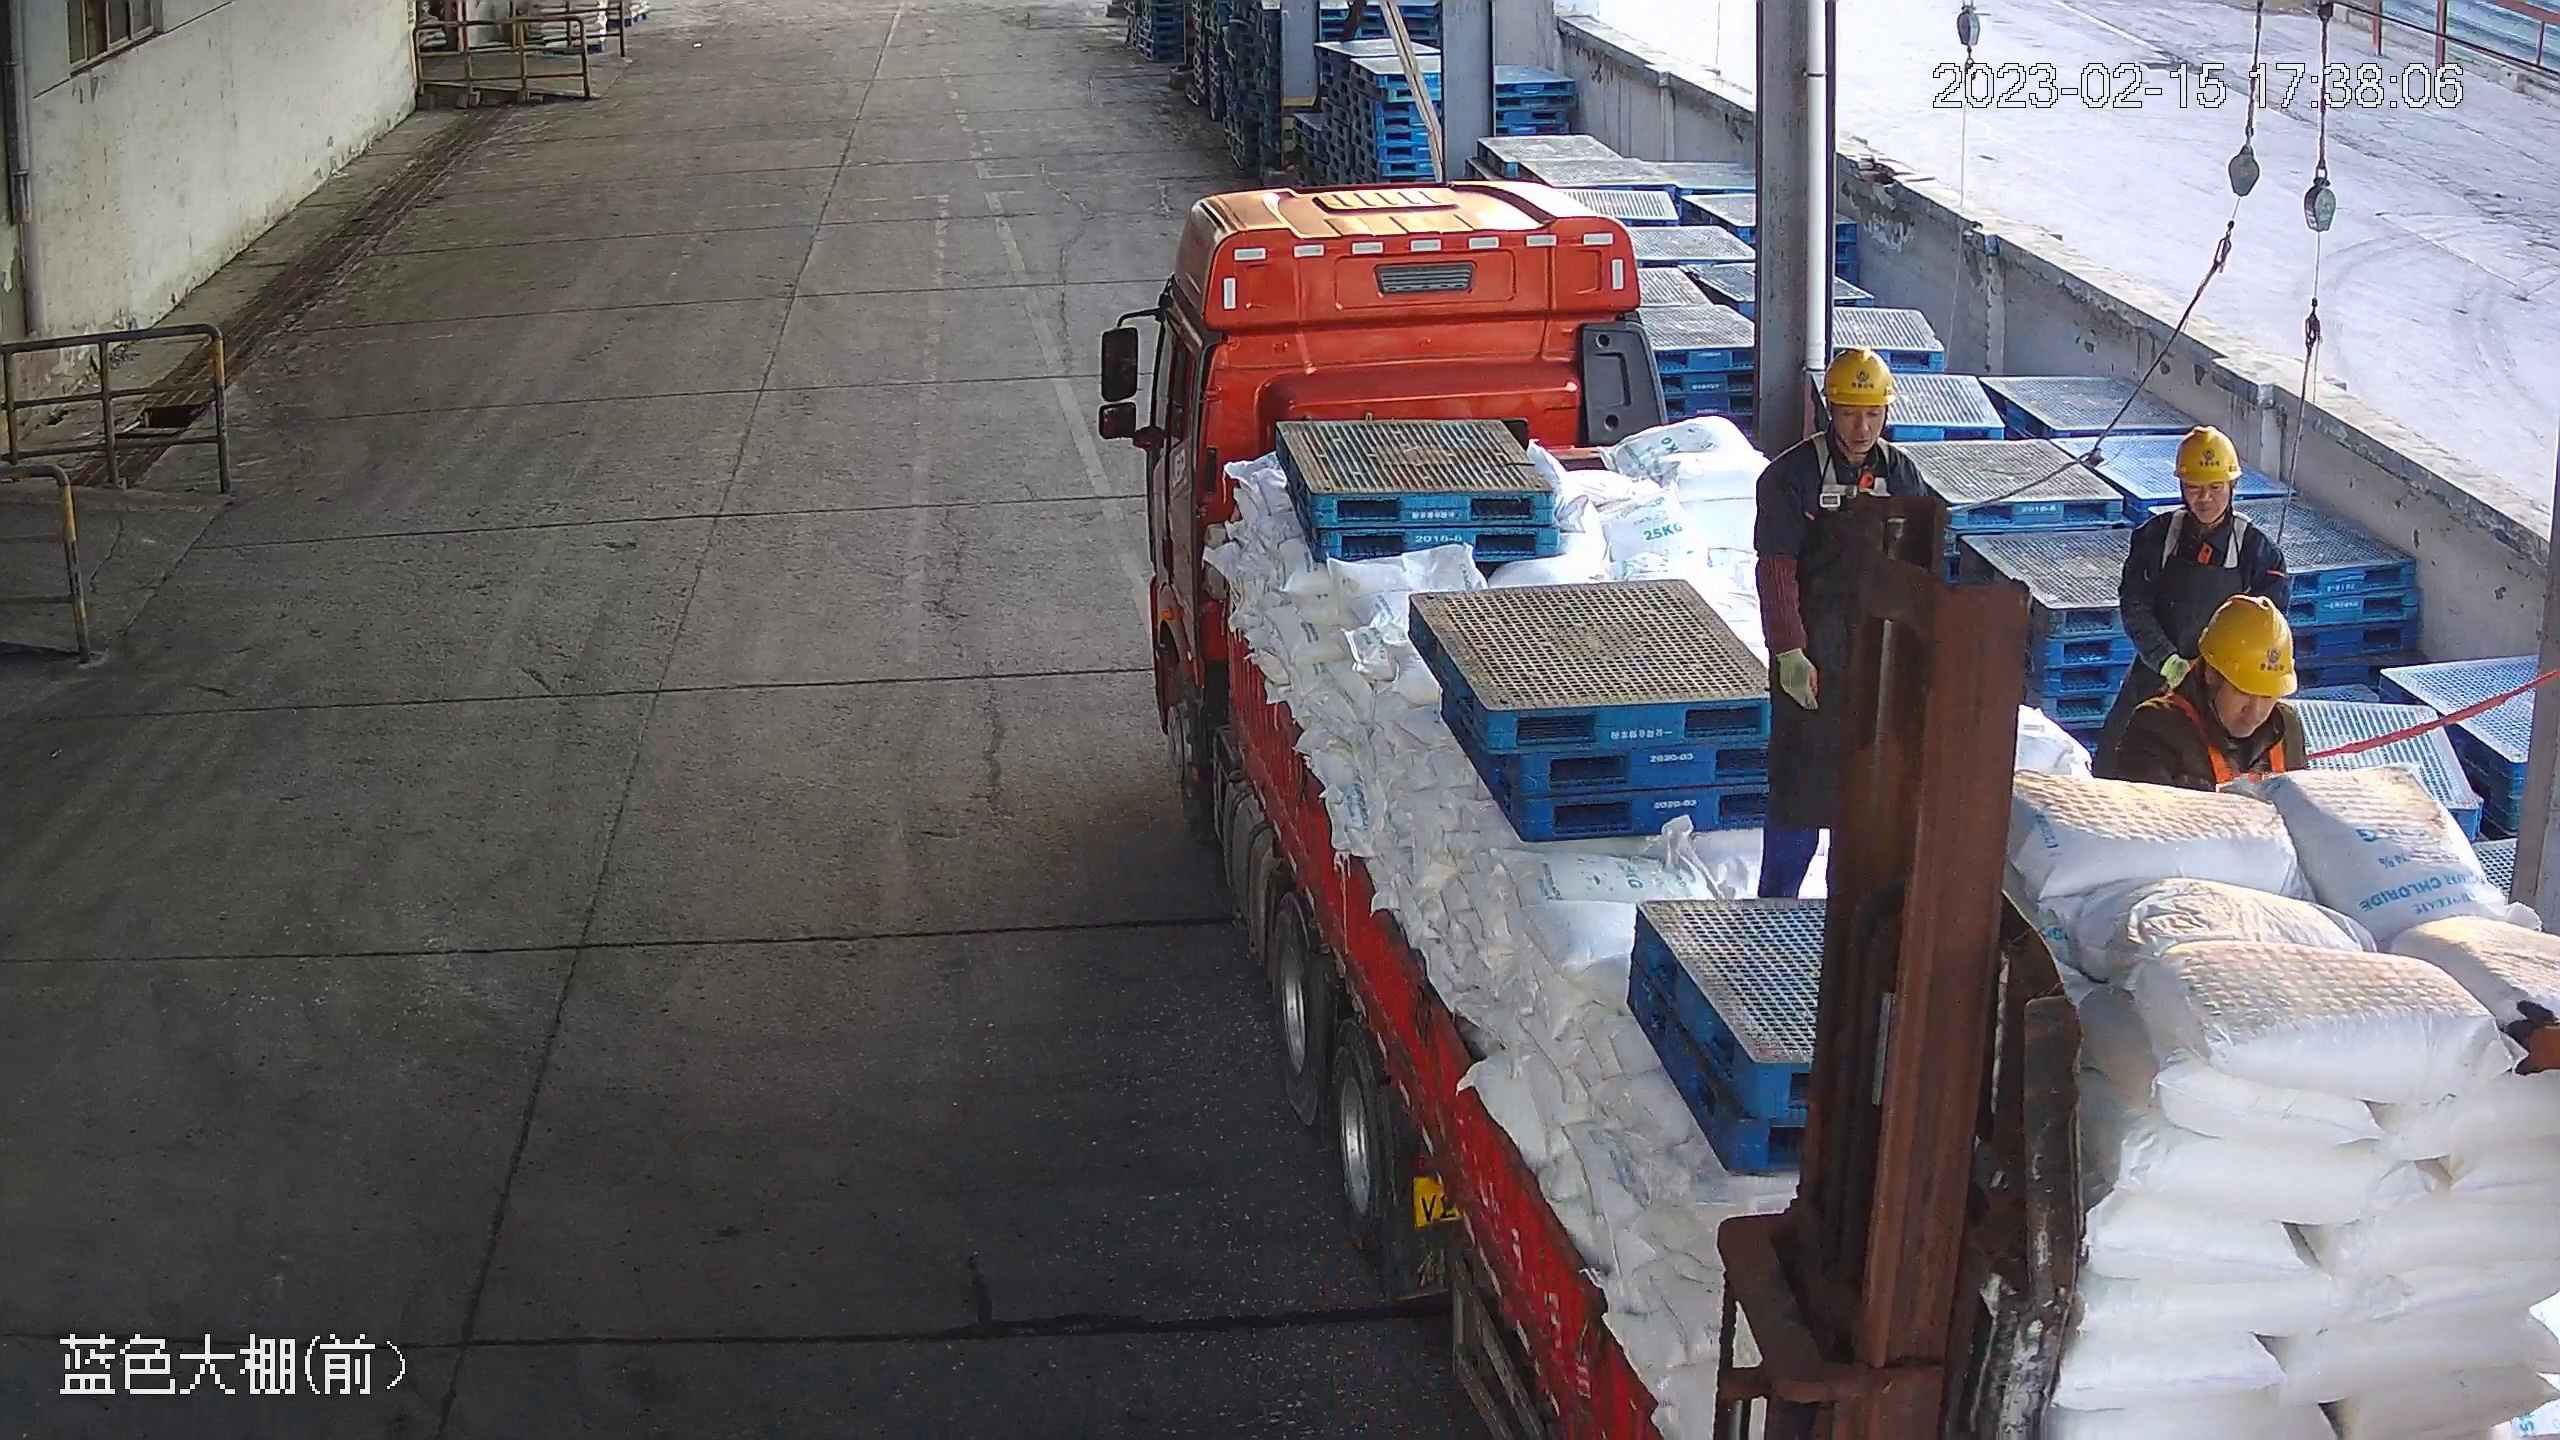belt: (2161, 680, 2301, 791), (1803, 421, 1899, 514), (2155, 506, 2281, 567)
head: (2116, 590, 2322, 779), (1759, 340, 1929, 553), (2133, 412, 2288, 575)
helmet: (2203, 580, 2307, 701), (2164, 414, 2248, 490), (1814, 345, 1901, 414)
people: (1759, 336, 1959, 906)
truck: (1094, 182, 2560, 1440)
